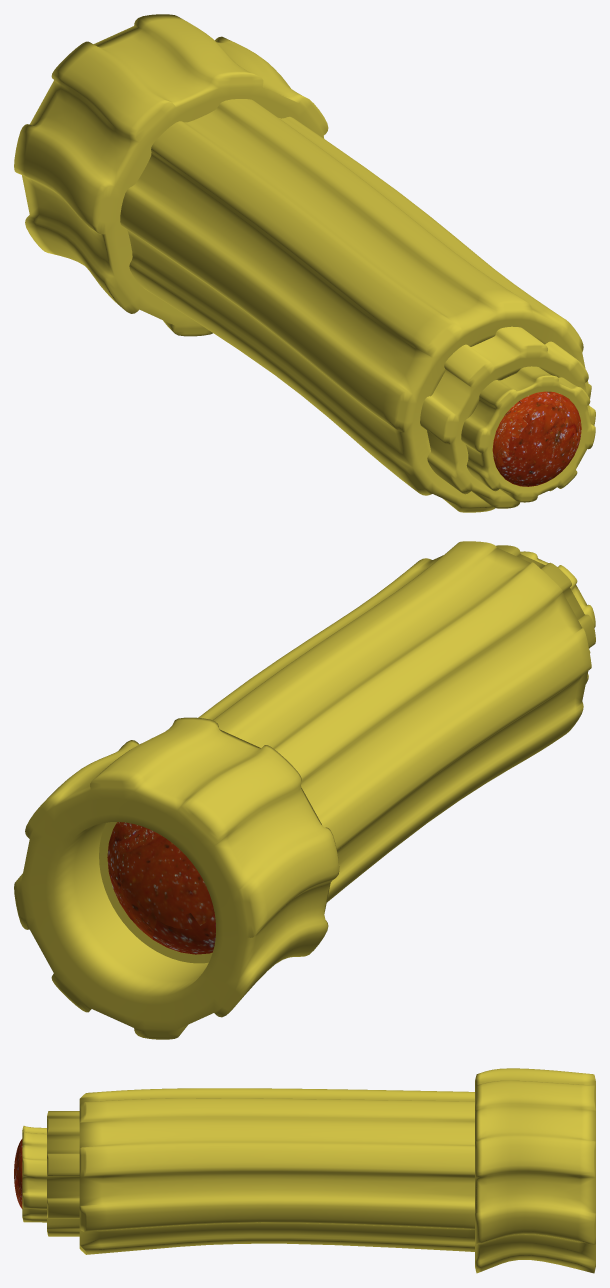
File: Nudel.fbx
3 renders of one model, top to bottom at view 1: azimuth 30°, elevation 25°; view 2: azimuth 150°, elevation 25°; view 3: azimuth 270°, elevation 25°, orthographic. The views are drawn at different scales.
Visible parts, largest first — view 1: Circle, Circle.003, Circle.001, Circle.002, Sphere; view 2: Circle, Circle.003, Sphere.001, Circle.001; view 3: Circle, Circle.003, Circle.001, Circle.002, Sphere.
Boxes of the visible parts, x1=… form: Circle: x1=120, y1=99, x2=591, y2=512; Circle.003: x1=14, y1=14, x2=328, y2=336; Circle.001: x1=420, y1=326, x2=595, y2=508; Circle.002: x1=461, y1=366, x2=595, y2=502; Sphere: x1=492, y1=391, x2=581, y2=486; Circle: x1=99, y1=541, x2=591, y2=963; Circle.003: x1=14, y1=717, x2=339, y2=1039; Sphere.001: x1=107, y1=822, x2=215, y2=954; Circle.001: x1=496, y1=545, x2=595, y2=683; Circle: x1=79, y1=1088, x2=474, y2=1254; Circle.003: x1=475, y1=1068, x2=595, y2=1273; Circle.001: x1=47, y1=1111, x2=79, y2=1236; Circle.002: x1=22, y1=1126, x2=46, y2=1222; Sphere: x1=14, y1=1139, x2=22, y2=1208.
Bounding box in the file's own units: 136 × 134 × 387.
